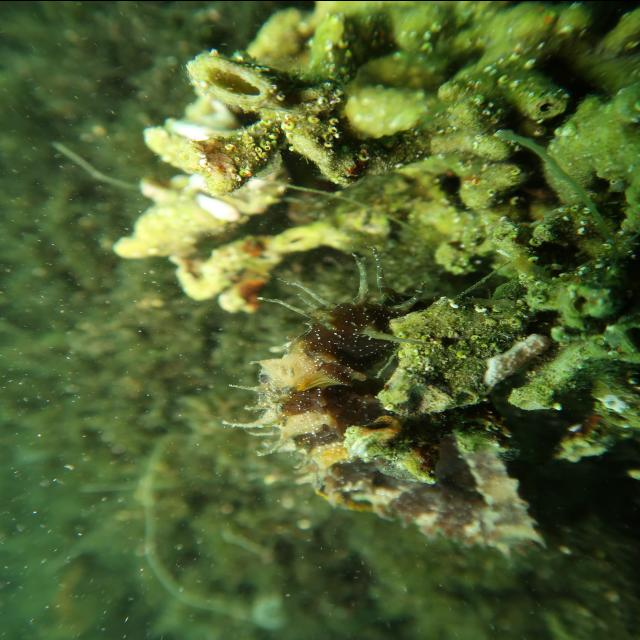Guttu: (229, 282, 427, 402)
